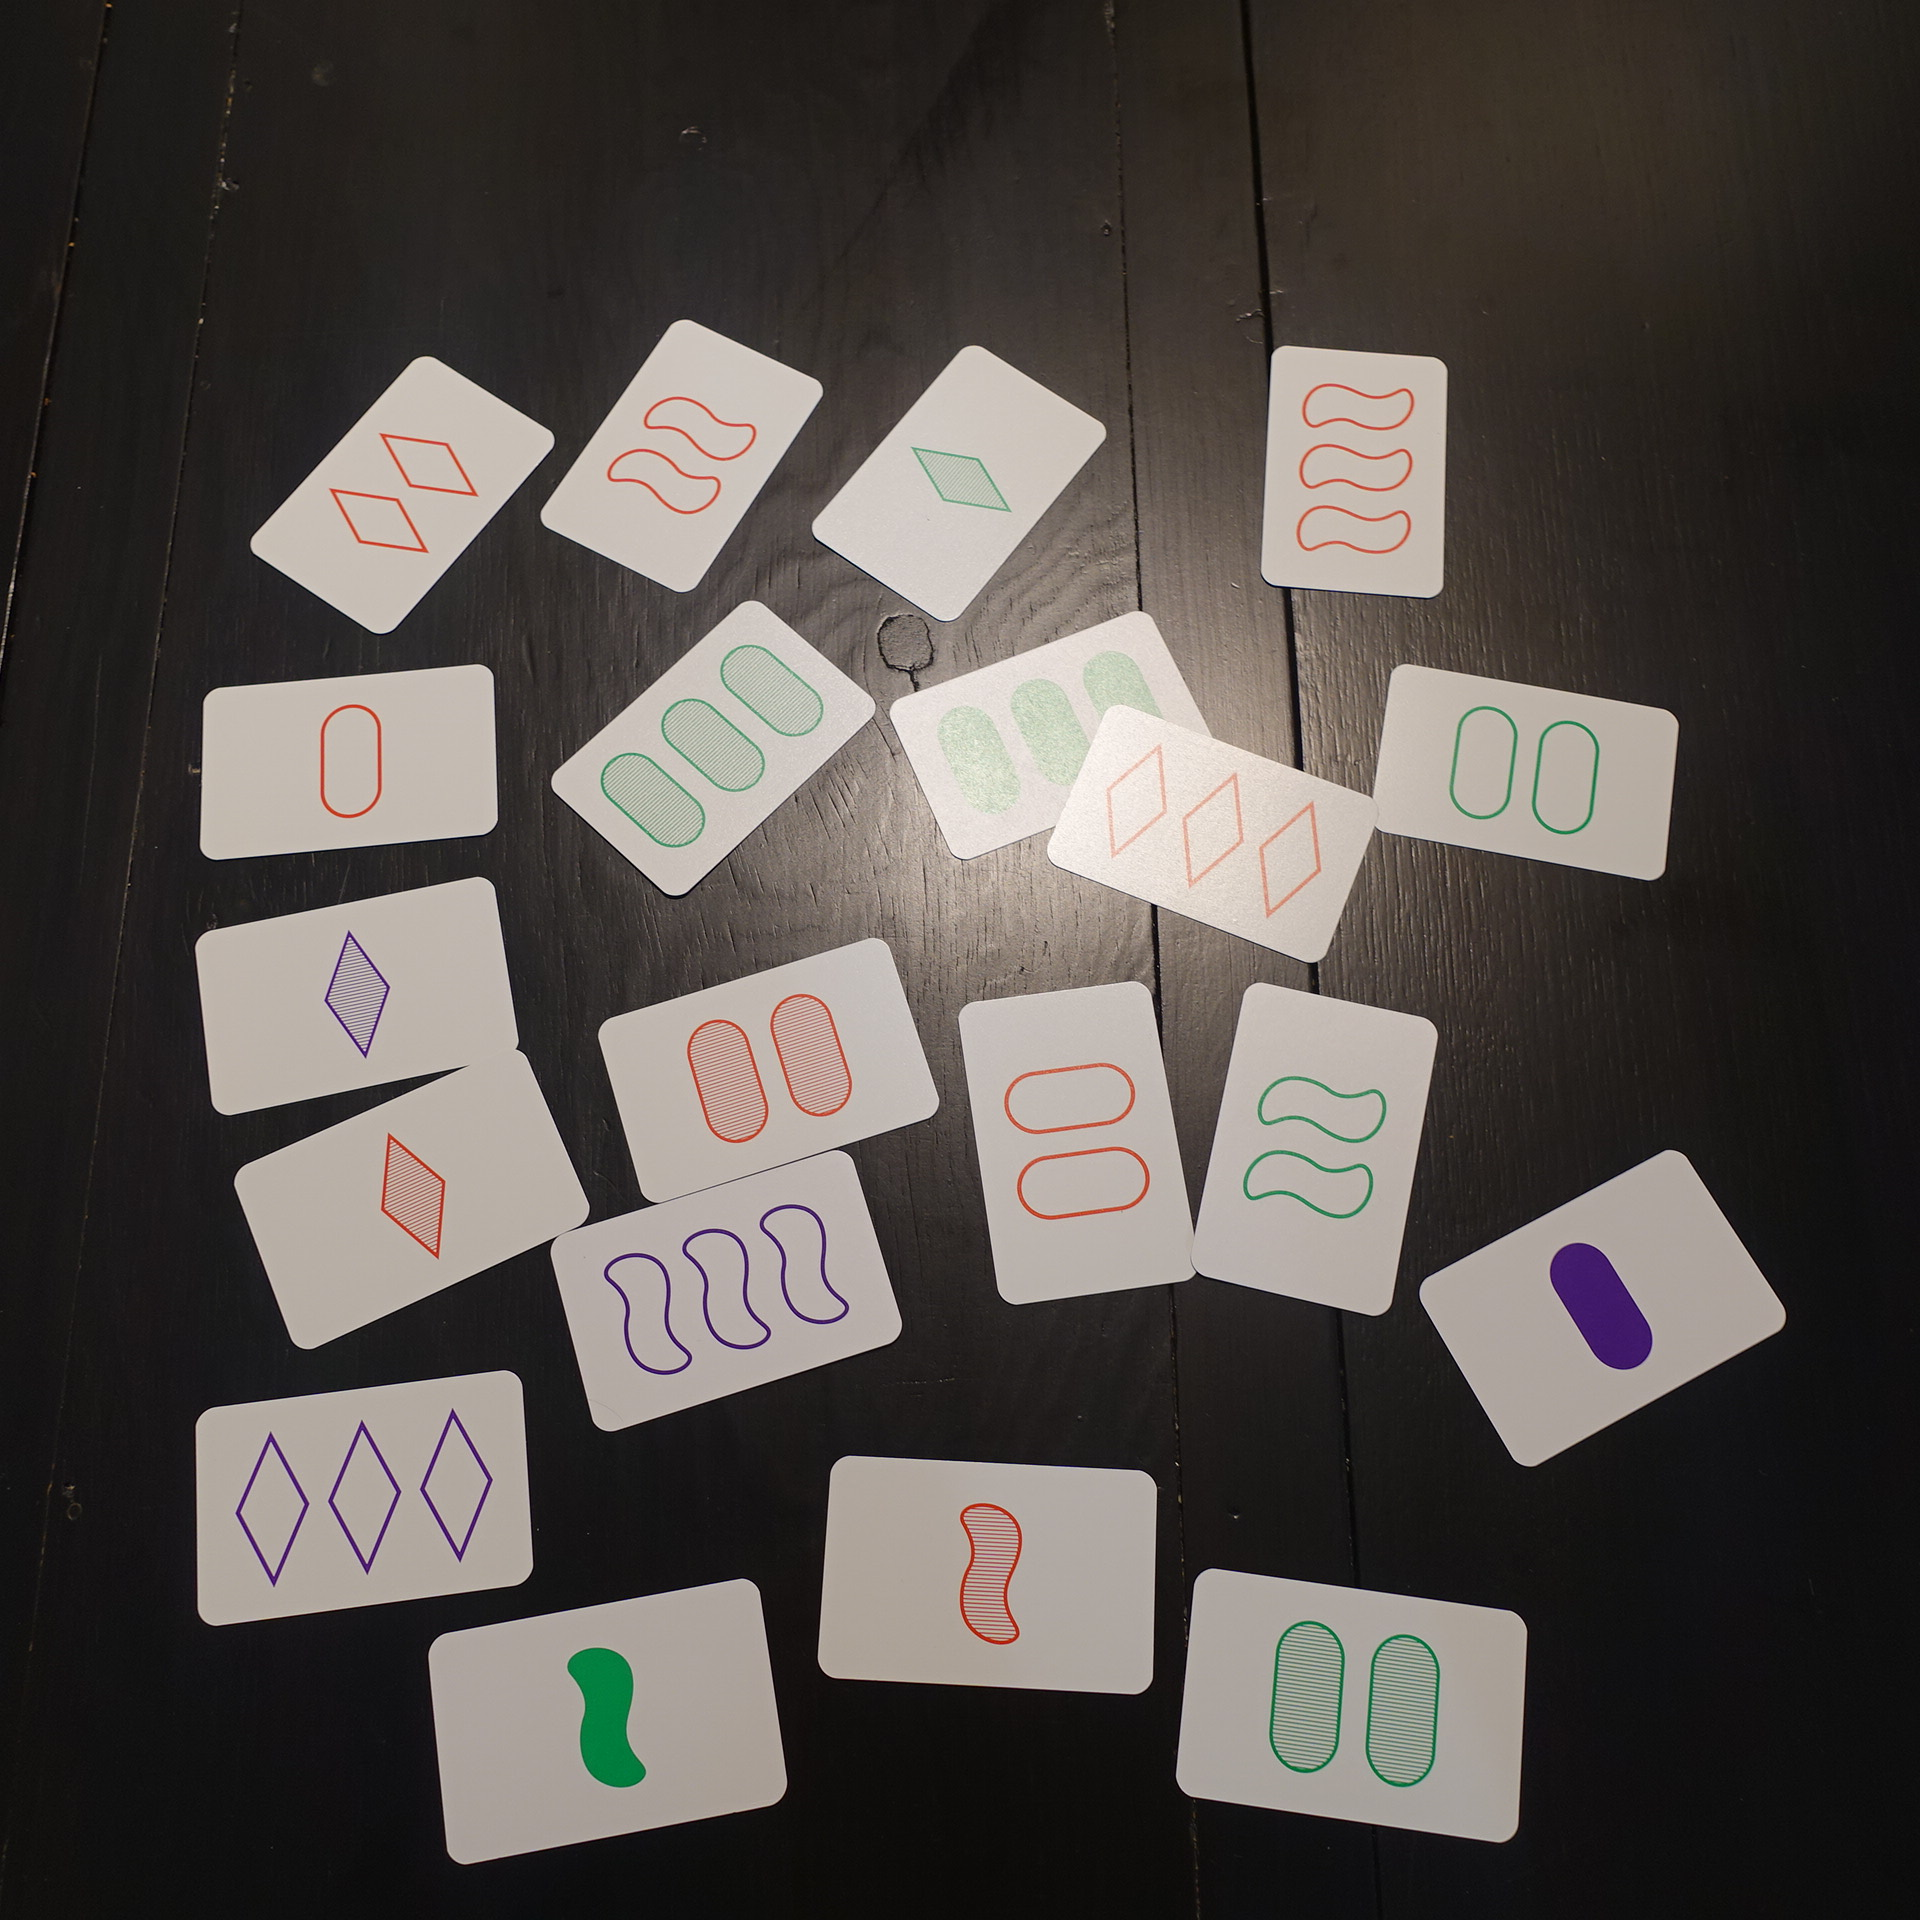c-1-f-d-g: (420, 1563, 798, 1880)
c-1-f-o-p: (1414, 1138, 1806, 1473)
c-1-h-d-g: (809, 329, 1113, 633)
c-1-h-d-p: (183, 874, 538, 1124)
c-1-h-d-r: (216, 1044, 594, 1357), (807, 1447, 1183, 1704)
c-1-u-o-r: (171, 658, 506, 869)
c-2-h-o-g: (1162, 1563, 1551, 1850)
c-2-h-o-r: (585, 921, 951, 1208)
c-2-u-d-g: (1183, 976, 1454, 1326)
c-2-u-d-r: (244, 336, 563, 645), (535, 301, 832, 598)
c-2-u-o-g: (1366, 658, 1690, 886)
c-2-u-o-r: (951, 971, 1203, 1313)
c-3-f-o-g: (881, 600, 1248, 869)
c-3-h-o-g: (540, 584, 886, 909)
c-3-u-d-p: (543, 1141, 911, 1442), (181, 1366, 542, 1639)
c-3-u-d-r: (1034, 693, 1384, 978), (1247, 331, 1458, 614)
